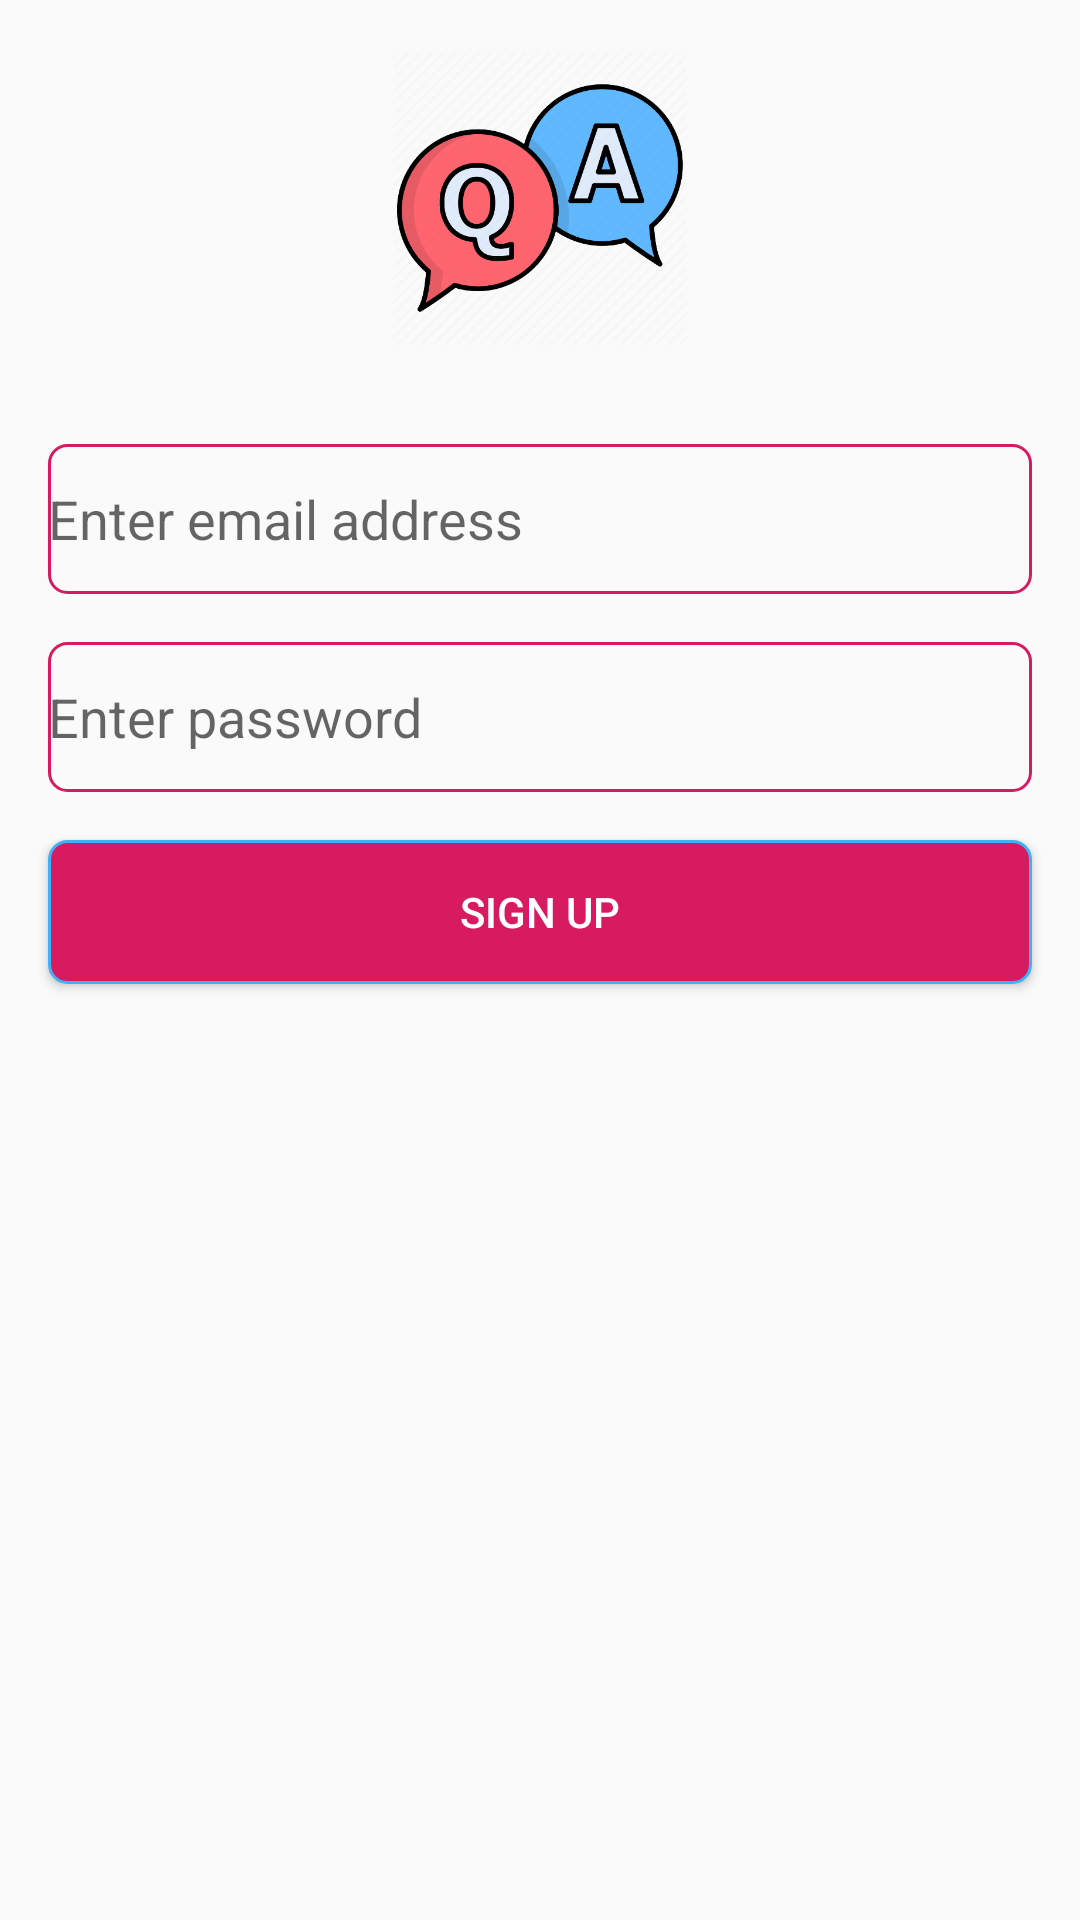

Where icons sit on this 1080px x 1920px app screen, as (x1, y1, x2, y2):
qna: (397, 84, 683, 312)
